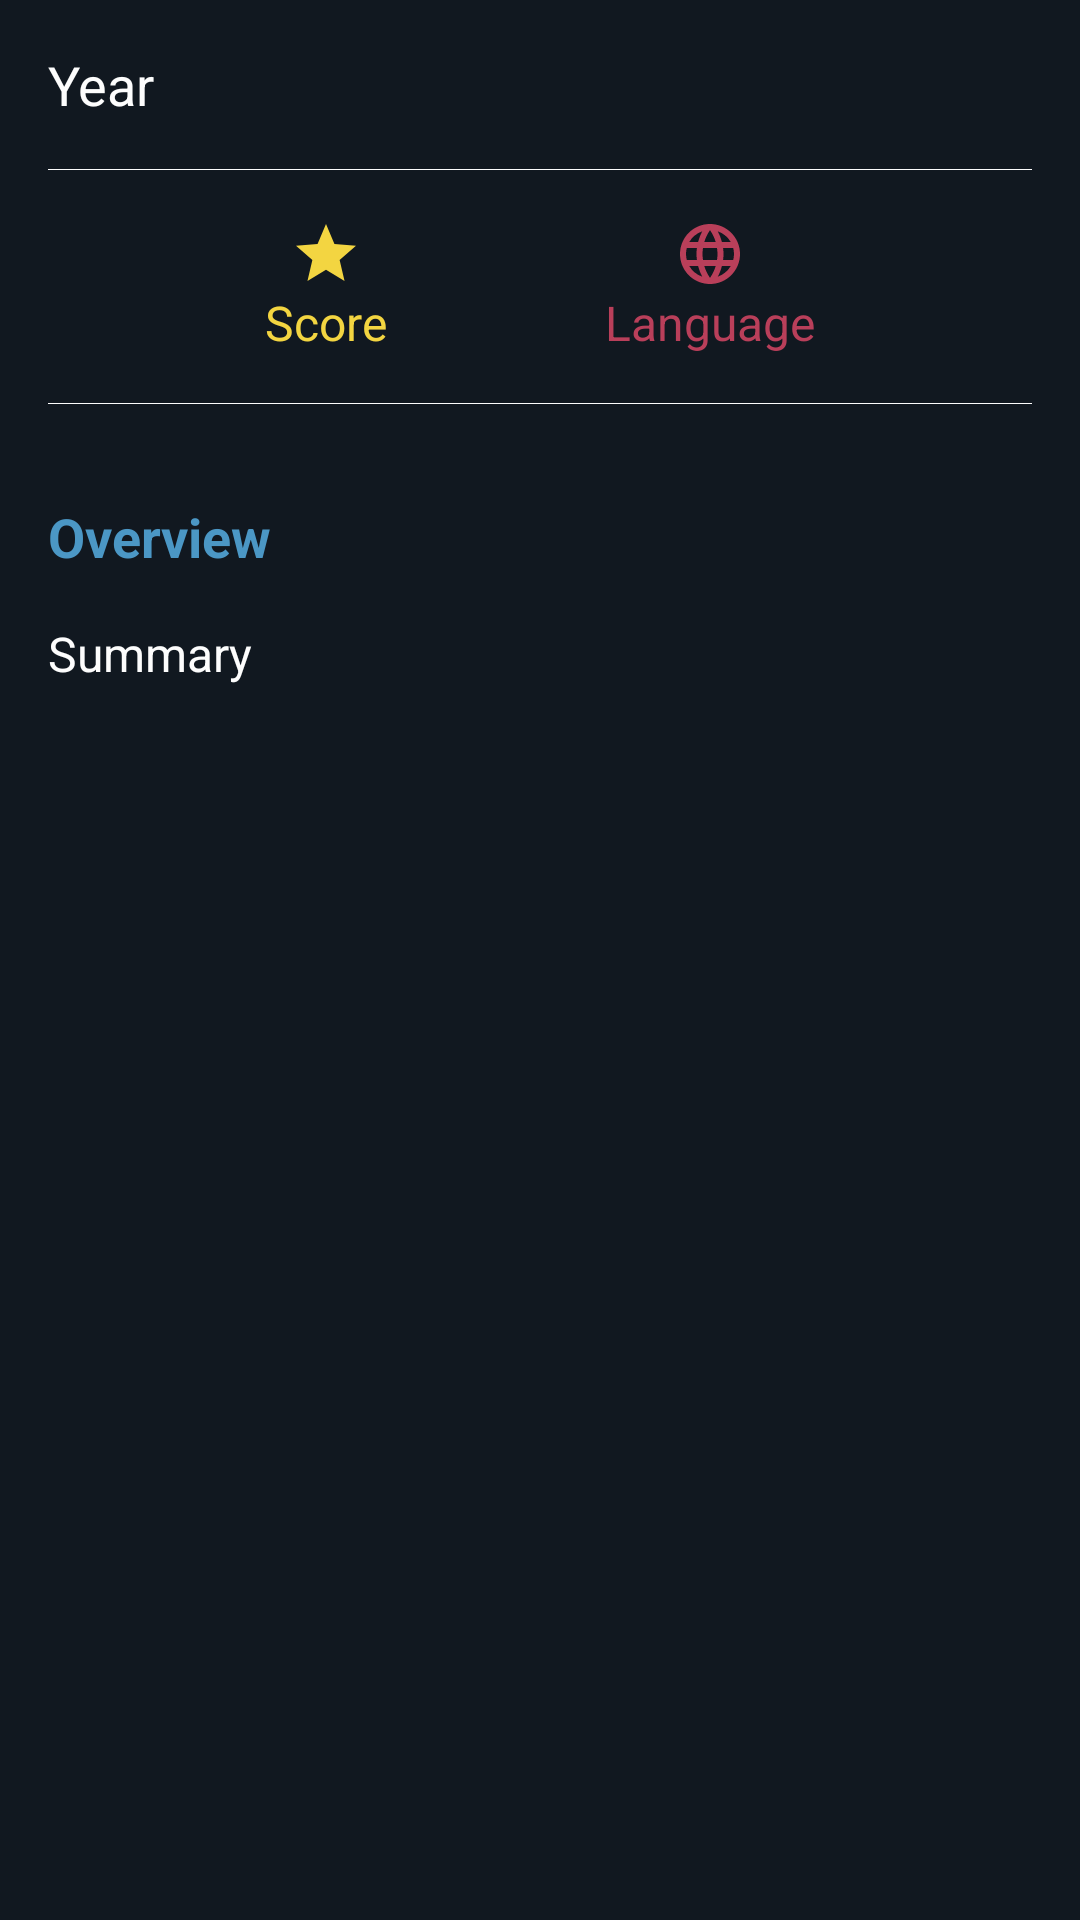

Icons on this 1080*1920 Android screen, each with the point to tap as (x,y):
star: (326,252)
